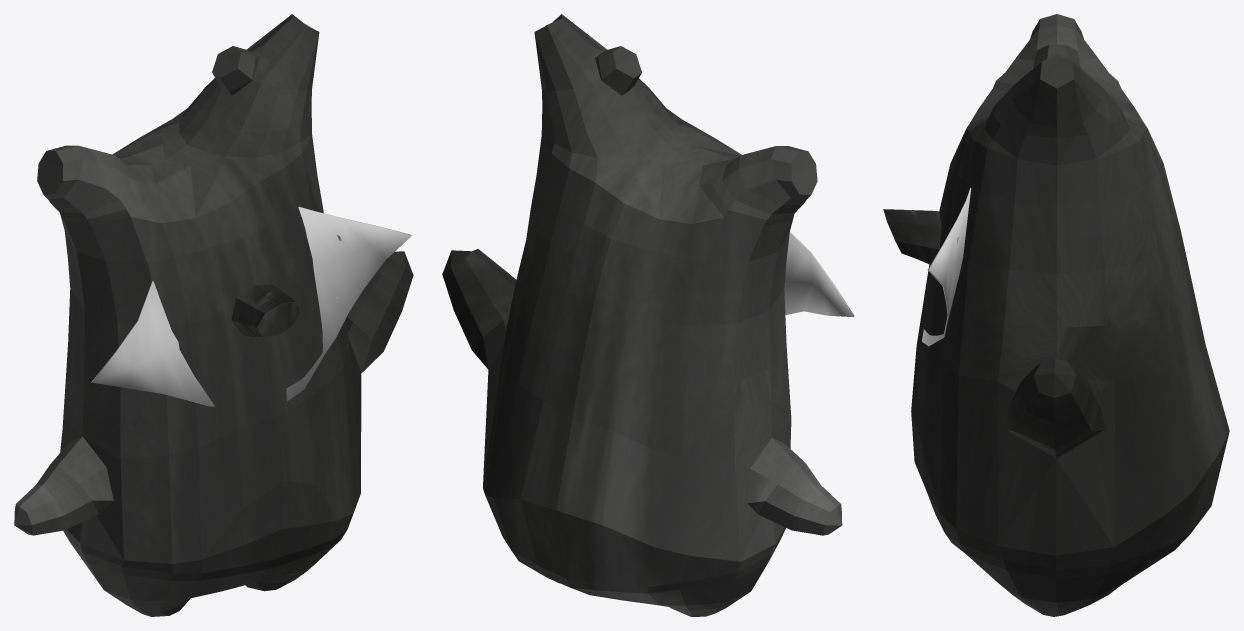
The model's file is frame_0005.obj.
The picture shows the model from 3 angles, left to right: view 1: azimuth 30°, elevation 25°; view 2: azimuth 150°, elevation 25°; view 3: azimuth 270°, elevation 25°; orthographic projection.
Parts seen in each view (by area): view 1: korok, leaf, nose; view 2: korok, leaf; view 3: korok, nose, leaf.
Part boxes in pixels (x1,y1,x2,y2): korok: [14, 14, 413, 616]; leaf: [91, 206, 411, 406]; nose: [231, 284, 300, 336]; korok: [442, 14, 842, 616]; leaf: [784, 232, 854, 317]; korok: [911, 14, 1229, 616]; nose: [883, 209, 941, 264]; leaf: [922, 187, 971, 346].
Size of the model in its own units: 1.7 by 2.31 by 1.27.
